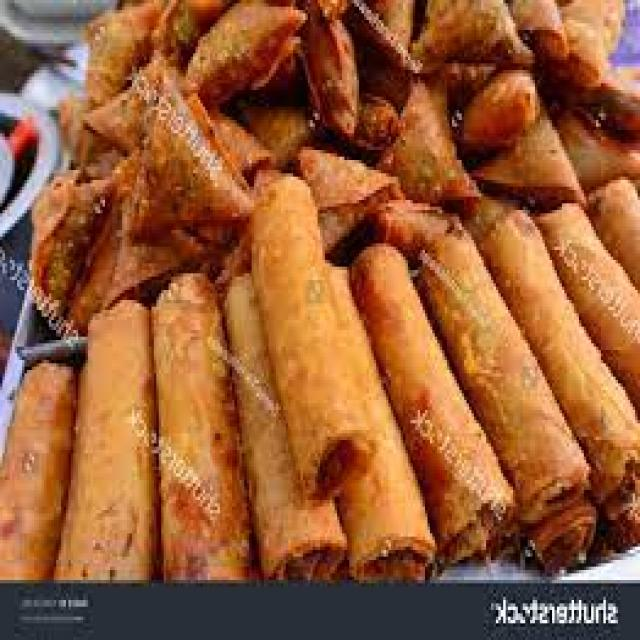Samosa: (0, 0, 638, 282)
Spring Rolls: (1, 167, 640, 578)
